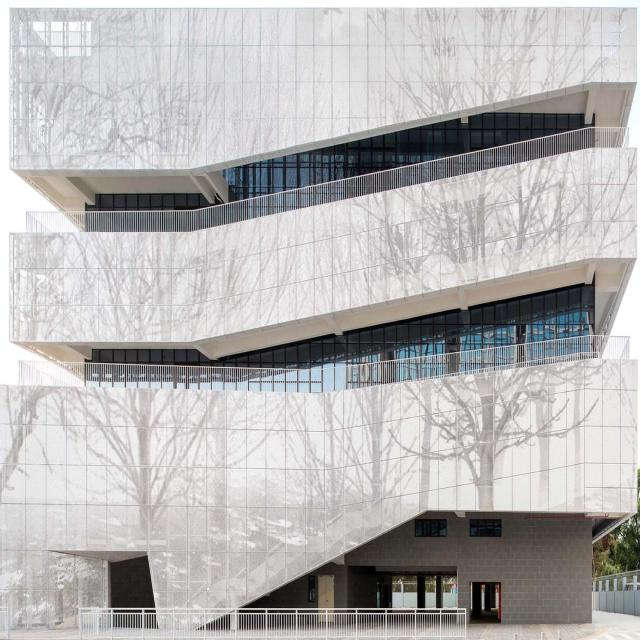railing: (25, 125, 630, 235), (18, 334, 630, 393), (85, 608, 467, 639)
window: (92, 285, 596, 370), (219, 111, 585, 200), (85, 192, 211, 211), (470, 519, 502, 537), (414, 519, 446, 537)
